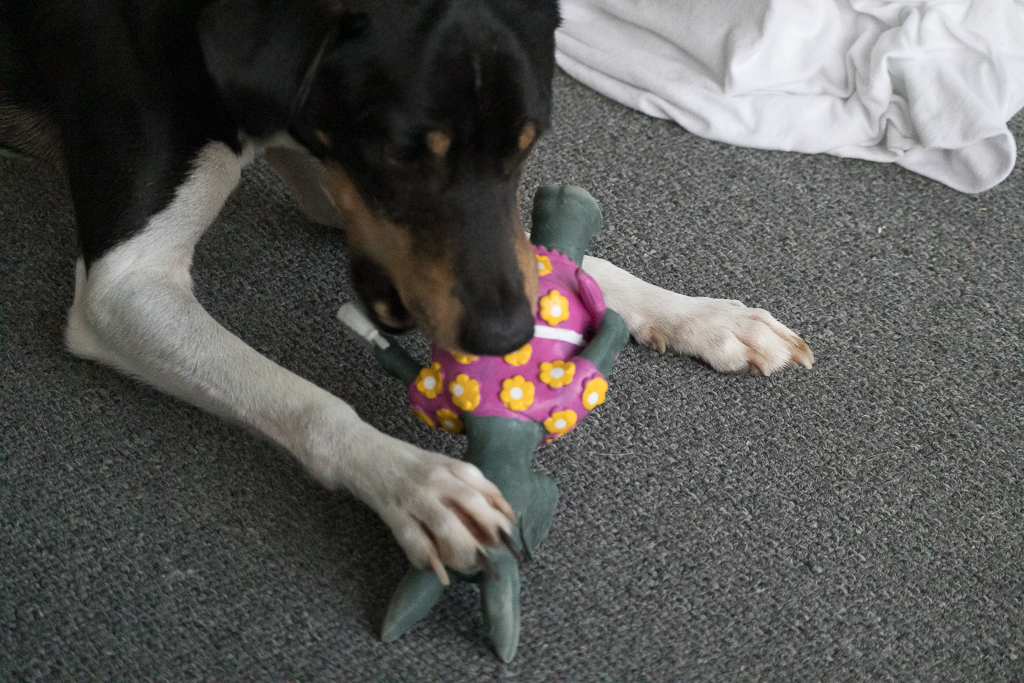Dog: (0, 0, 823, 599)
Humanoid: (321, 169, 637, 671)
